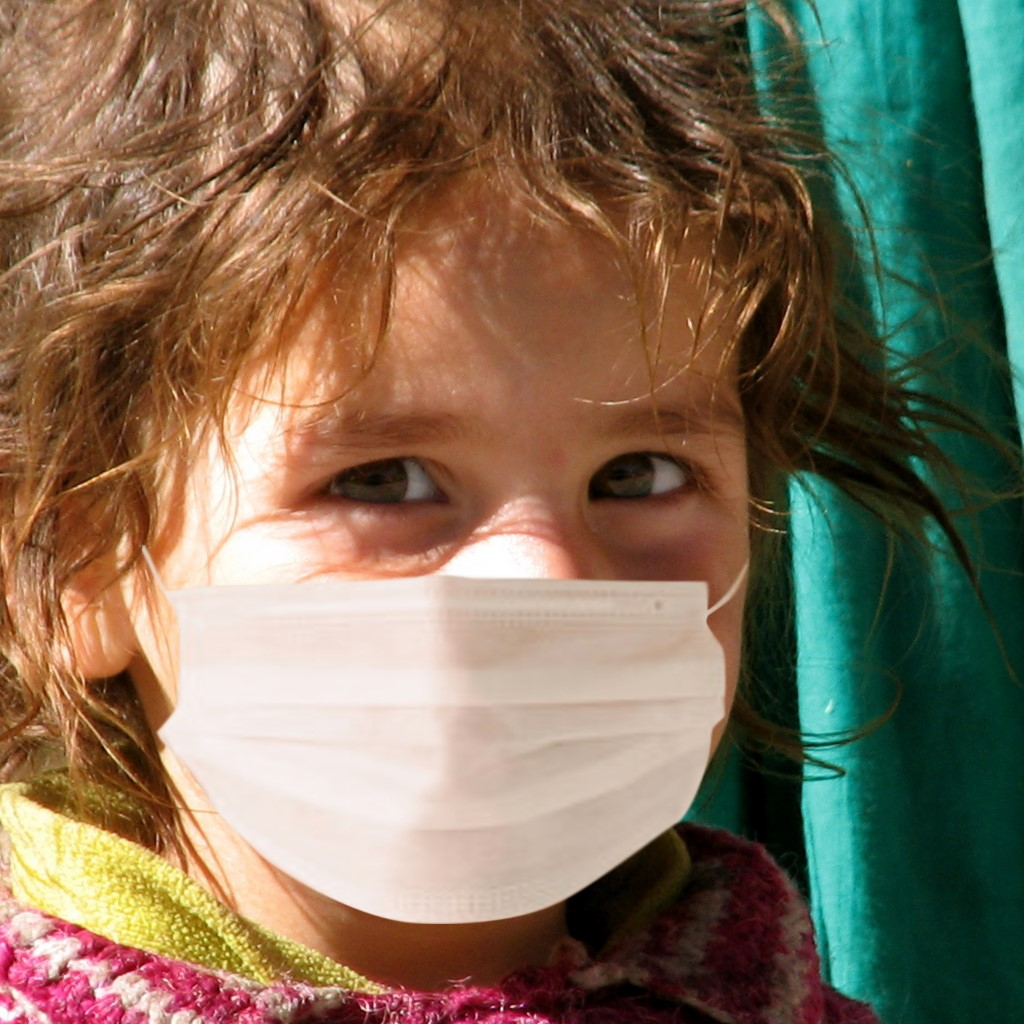con_mascara: (103, 128, 745, 918)
